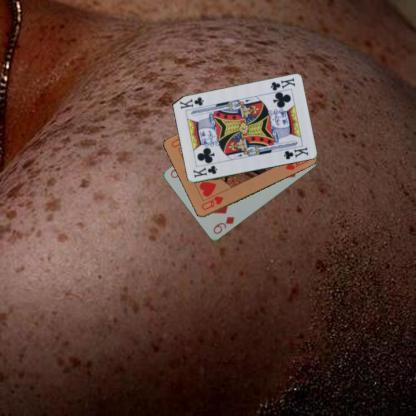9d: (210, 214, 236, 236)
Kc: (268, 76, 297, 92), (190, 163, 218, 179)
Qh: (199, 194, 225, 212)
